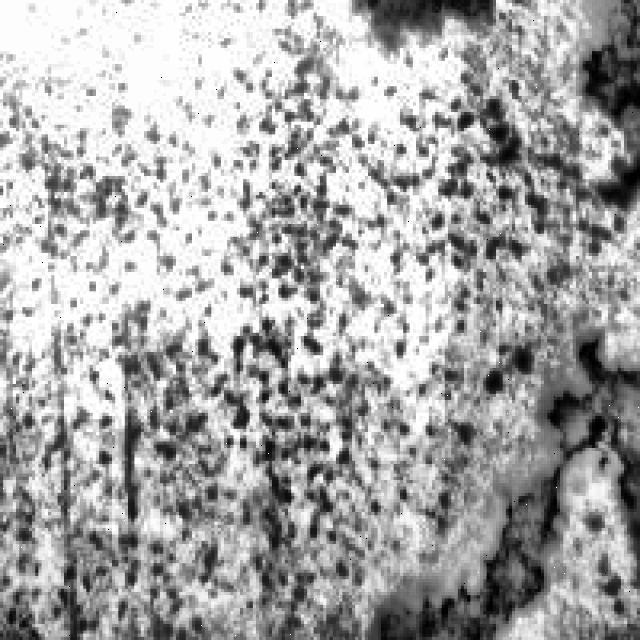Rolled_in_Scale: (7, 54, 534, 522)
Scratches: (362, 454, 560, 637), (541, 323, 637, 522), (570, 0, 636, 131), (339, 0, 499, 51)
